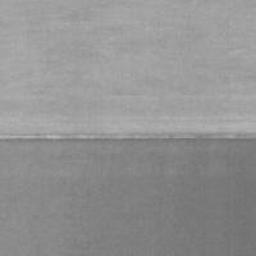Welding line: (0, 132, 256, 141)
